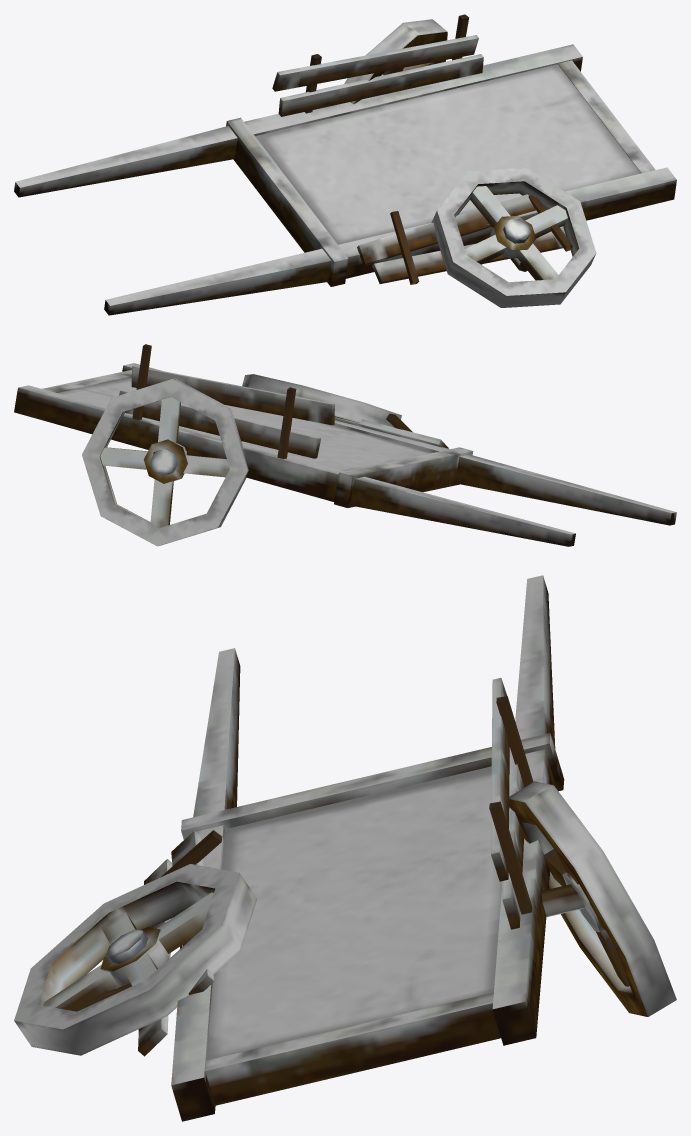
File: nsm-general_obj_21_1.fbx
3 renders of one model, top to bottom at view 1: azimuth 30°, elevation 25°; view 2: azimuth 150°, elevation 25°; view 3: azimuth 270°, elevation 25°, orthographic. The views are drawn at different scales.
Parts seen in each view (by area): view 1: Sphere02; view 2: Sphere02; view 3: Sphere02.
Boxes of the visible parts, x1,y1,x2,y2 form: Sphere02: [14, 14, 676, 315]; Sphere02: [14, 344, 676, 546]; Sphere02: [14, 575, 676, 1121].
Bounding box in the file's own units: 4.87 × 1.44 × 3.09.
